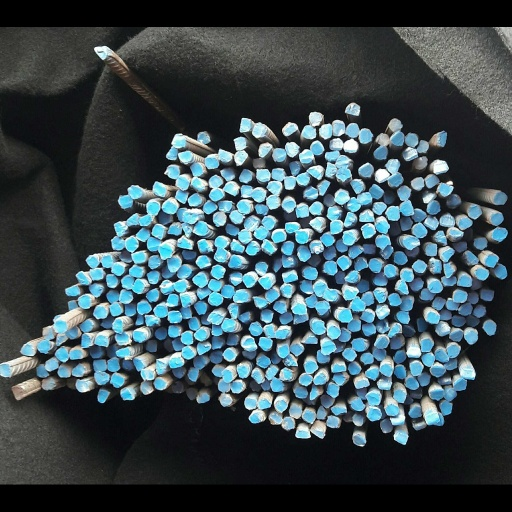dipstick: (243, 215, 259, 231), (433, 159, 449, 174), (390, 333, 405, 349), (446, 227, 463, 241), (369, 184, 384, 199), (403, 146, 418, 161), (424, 173, 439, 188), (399, 200, 414, 215), (412, 223, 427, 238), (439, 247, 454, 262), (152, 181, 166, 197), (110, 372, 124, 388), (234, 150, 248, 166), (307, 166, 323, 180), (331, 120, 345, 136), (447, 193, 461, 209), (463, 250, 479, 264), (164, 165, 179, 179), (220, 167, 235, 181), (162, 200, 177, 214), (55, 347, 69, 362), (75, 378, 90, 392), (192, 273, 207, 287), (258, 142, 272, 157), (309, 111, 323, 126), (310, 140, 324, 155), (299, 149, 314, 163), (310, 218, 325, 232), (345, 102, 360, 116), (361, 223, 375, 238), (358, 163, 373, 177), (397, 185, 411, 200), (425, 411, 440, 425), (424, 216, 439, 230), (492, 227, 507, 241), (285, 141, 298, 157), (319, 123, 332, 139), (317, 179, 330, 195), (359, 208, 375, 221), (429, 258, 442, 274), (439, 214, 455, 227), (171, 134, 185, 148), (175, 189, 189, 203), (114, 222, 128, 236), (111, 236, 125, 250), (89, 283, 103, 297), (119, 289, 133, 303), (193, 221, 207, 235), (212, 212, 226, 226), (211, 265, 225, 279), (221, 318, 235, 332), (251, 123, 265, 137), (272, 148, 286, 162), (265, 289, 279, 303), (263, 324, 277, 338), (311, 320, 325, 334), (315, 301, 329, 315), (338, 308, 352, 322), (375, 168, 389, 182), (386, 159, 400, 173), (426, 200, 440, 214), (398, 216, 412, 230), (443, 387, 457, 401), (464, 330, 478, 344), (434, 231, 448, 245), (468, 205, 482, 219), (93, 46, 108, 59), (127, 185, 142, 198), (125, 237, 138, 252), (94, 371, 109, 384), (89, 345, 104, 358), (161, 265, 176, 278), (208, 292, 223, 305), (252, 187, 265, 202), (266, 181, 281, 194), (282, 122, 297, 135), (314, 282, 327, 297), (281, 254, 296, 267), (346, 122, 359, 137), (359, 128, 372, 143), (336, 168, 351, 181), (334, 191, 349, 204), (366, 408, 381, 421), (348, 246, 363, 259), (354, 256, 367, 271), (373, 272, 388, 285), (347, 197, 360, 212), (376, 236, 391, 249), (373, 146, 388, 159), (387, 173, 402, 186), (434, 349, 449, 362), (483, 320, 496, 335), (324, 162, 336, 178), (190, 162, 203, 176), (205, 156, 219, 169), (218, 149, 232, 162), (191, 177, 205, 190), (119, 195, 133, 208), (136, 228, 150, 241), (147, 237, 161, 250), (93, 306, 107, 319), (41, 377, 55, 390), (57, 364, 71, 377), (97, 389, 110, 403), (107, 358, 120, 372), (140, 381, 153, 395), (106, 290, 120, 303), (121, 275, 134, 289), (146, 270, 159, 284), (160, 280, 173, 294), (197, 341, 210, 355), (159, 244, 172, 258), (177, 265, 191, 278), (196, 255, 210, 268), (239, 118, 252, 132), (239, 169, 252, 183), (223, 182, 237, 195), (210, 336, 224, 349), (209, 350, 223, 363), (211, 364, 225, 377), (236, 364, 249, 378), (242, 274, 255, 288), (245, 242, 259, 255), (229, 210, 243, 223), (266, 195, 279, 209), (271, 168, 285, 181), (303, 125, 316, 139), (296, 172, 310, 185), (282, 199, 295, 213), (261, 217, 275, 230), (254, 225, 267, 239), (262, 239, 275, 253), (255, 261, 268, 275), (260, 309, 273, 323), (256, 355, 270, 368), (251, 369, 264, 383), (322, 341, 336, 354), (300, 279, 313, 293), (281, 241, 294, 255), (297, 248, 311, 261), (324, 261, 337, 275), (343, 140, 357, 153), (342, 348, 356, 361), (332, 372, 346, 385), (351, 398, 365, 411), (366, 392, 380, 405), (351, 298, 365, 311), (376, 318, 389, 332), (376, 305, 389, 319), (369, 258, 382, 272), (350, 179, 363, 193), (375, 220, 389, 233), (380, 245, 393, 259), (386, 206, 399, 220), (416, 139, 429, 153), (414, 155, 427, 169), (410, 177, 424, 190), (439, 183, 453, 196), (412, 208, 426, 221), (393, 251, 407, 264), (400, 268, 413, 282), (409, 362, 423, 375), (410, 277, 423, 291), (428, 280, 442, 293), (432, 297, 446, 310), (453, 289, 467, 302), (475, 267, 489, 280), (485, 254, 499, 267), (178, 151, 193, 163), (145, 315, 160, 327), (168, 257, 180, 272), (152, 224, 164, 239), (196, 287, 211, 299), (209, 189, 224, 201), (208, 312, 223, 324), (233, 290, 248, 302), (278, 312, 293, 324), (242, 338, 257, 350), (282, 270, 297, 282), (327, 207, 342, 219), (434, 131, 446, 146), (404, 237, 419, 249), (435, 324, 450, 336), (457, 275, 472, 287), (495, 264, 507, 279), (115, 348, 131, 359), (156, 358, 167, 374), (227, 302, 238, 318), (443, 262, 454, 278), (176, 177, 189, 190), (146, 202, 159, 215), (158, 211, 171, 224), (126, 213, 139, 226), (78, 295, 91, 308), (65, 326, 78, 339), (93, 359, 106, 372), (111, 262, 124, 275), (146, 289, 159, 302), (181, 346, 194, 359), (193, 301, 206, 314), (233, 137, 246, 150), (214, 249, 227, 262), (221, 285, 234, 298), (228, 255, 241, 268), (238, 230, 251, 243), (237, 200, 250, 213), (249, 322, 262, 335), (274, 400, 287, 413), (270, 378, 283, 391), (290, 343, 303, 356), (320, 395, 333, 408), (305, 294, 318, 307), (304, 267, 317, 280), (308, 253, 321, 266), (337, 257, 350, 270), (353, 433, 366, 446), (380, 419, 393, 432), (342, 232, 355, 245), (389, 118, 402, 131), (376, 133, 389, 146), (393, 350, 406, 363), (393, 390, 406, 403), (420, 339, 433, 352), (413, 259, 426, 272), (138, 214, 152, 226), (11, 386, 23, 400), (72, 363, 84, 377), (120, 388, 134, 400), (115, 332, 129, 344), (106, 274, 118, 288), (137, 302, 151, 314), (193, 355, 205, 369), (197, 239, 209, 253), (202, 201, 216, 213), (218, 200, 232, 212), (214, 236, 228, 248), (256, 169, 270, 181), (288, 161, 300, 175), (253, 296, 267, 308), (280, 284, 292, 298), (273, 301, 287, 313), (292, 303, 306, 315), (326, 415, 340, 427), (327, 383, 339, 397), (324, 246, 336, 260), (304, 187, 318, 199), (329, 138, 343, 150), (338, 327, 350, 341), (374, 336, 388, 348), (345, 271, 359, 283), (357, 192, 371, 204), (406, 133, 418, 147), (397, 280, 409, 294), (449, 329, 463, 341), (466, 315, 480, 327), (112, 318, 123, 333), (140, 369, 155, 380), (169, 357, 184, 368), (172, 367, 187, 378), (178, 238, 193, 249), (181, 223, 192, 238), (182, 212, 197, 223), (310, 427, 325, 438), (406, 346, 421, 357), (430, 366, 445, 377), (451, 315, 466, 326), (441, 275, 456, 286), (452, 241, 467, 252), (165, 147, 178, 159), (100, 255, 113, 267), (76, 272, 89, 284), (53, 321, 66, 333), (37, 340, 49, 353), (45, 359, 58, 371), (36, 365, 49, 377), (95, 335, 108, 347), (133, 358, 145, 371), (145, 340, 158, 352), (155, 327, 167, 340), (109, 303, 121, 316), (124, 303, 136, 316), (148, 256, 160, 269), (171, 338, 184, 350), (154, 305, 167, 317), (173, 280, 186, 292), (179, 307, 192, 319), (188, 194, 201, 206), (226, 223, 239, 235), (208, 279, 221, 291), (218, 379, 230, 392), (219, 394, 232, 406), (230, 381, 243, 393), (222, 349, 235, 361), (230, 272, 242, 285), (296, 205, 309, 217), (258, 277, 271, 289), (259, 337, 271, 350), (279, 368, 292, 380), (317, 349, 329, 362), (304, 361, 317, 373), (303, 409, 315, 422), (328, 326, 340, 339), (324, 289, 337, 301), (295, 231, 308, 243), (309, 202, 322, 214), (335, 156, 348, 168), (348, 362, 361, 374), (379, 364, 392, 376), (373, 348, 386, 360), (357, 279, 369, 292), (373, 290, 386, 302), (363, 242, 376, 254), (373, 203, 386, 215), (384, 264, 396, 277), (397, 310, 409, 323), (394, 366, 406, 379), (395, 432, 408, 444), (409, 406, 422, 418), (405, 377, 418, 389), (422, 353, 434, 366), (444, 358, 457, 370), (447, 345, 460, 357), (427, 311, 439, 324), (462, 367, 475, 379), (473, 305, 486, 317), (446, 298, 459, 310), (481, 289, 494, 301), (494, 192, 507, 204), (490, 213, 503, 225), (474, 237, 487, 249), (131, 252, 145, 263), (21, 344, 35, 355), (132, 279, 143, 293), (129, 266, 143, 277), (168, 311, 182, 322), (180, 293, 191, 307), (182, 248, 196, 259), (257, 398, 271, 409), (268, 413, 282, 424), (316, 405, 327, 419), (320, 234, 334, 245), (325, 150, 339, 161), (347, 320, 361, 331), (344, 212, 355, 226), (441, 401, 452, 415), (430, 389, 444, 400), (418, 372, 429, 386), (458, 218, 472, 229), (81, 333, 91, 348), (188, 367, 198, 382), (377, 379, 392, 389), (437, 374, 452, 384), (209, 175, 221, 187), (86, 256, 98, 268), (42, 327, 54, 339), (80, 320, 92, 332), (105, 345, 117, 357), (101, 316, 113, 328), (120, 250, 132, 262), (172, 381, 184, 393), (181, 332, 193, 344), (168, 325, 180, 337), (166, 294, 178, 306), (295, 386, 307, 398), (289, 406, 301, 418), (282, 417, 294, 429), (352, 414, 364, 426), (386, 404, 398, 416), (356, 388, 368, 400), (352, 339, 364, 351), (363, 323, 375, 335), (361, 293, 373, 305), (400, 298, 412, 310), (197, 132, 210, 143), (133, 331, 146, 342), (188, 317, 199, 330), (194, 329, 207, 340), (222, 369, 233, 382), (225, 333, 238, 344), (238, 311, 251, 322), (241, 185, 252, 198), (255, 204, 268, 215), (284, 176, 295, 189), (275, 328, 288, 339), (249, 412, 262, 423), (278, 345, 289, 358), (313, 373, 326, 384), (272, 231, 285, 242), (310, 242, 323, 253), (336, 239, 347, 252), (360, 353, 373, 364), (361, 311, 374, 322), (388, 294, 401, 305), (417, 318, 428, 331), (453, 379, 466, 390), (89, 269, 103, 279), (252, 158, 266, 168), (308, 386, 318, 400), (294, 314, 308, 324), (343, 289, 357, 299), (412, 420, 426, 430), (421, 289, 435, 299), (354, 379, 369, 388), (186, 388, 197, 400), (244, 398, 256, 409), (299, 374, 311, 385), (324, 194, 335, 206), (330, 221, 341, 233), (468, 292, 479, 304), (425, 244, 437, 255), (168, 225, 181, 235), (285, 222, 298, 232), (335, 271, 345, 284), (365, 368, 378, 378), (391, 415, 404, 425), (439, 310, 452, 320), (65, 286, 79, 295), (69, 350, 83, 359), (230, 242, 244, 251), (154, 378, 165, 389), (211, 325, 222, 336), (0, 364, 10, 376), (201, 312, 211, 324), (196, 394, 209, 403), (297, 429, 310, 438), (332, 363, 345, 372), (177, 208, 185, 222), (303, 336, 317, 344), (331, 407, 346, 414), (68, 300, 78, 310)
